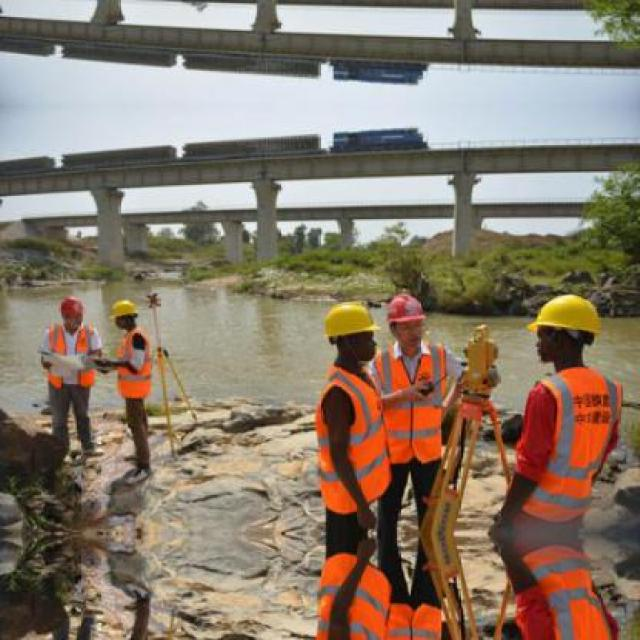helmet: (524, 288, 608, 371), (321, 300, 381, 362), (382, 291, 428, 349), (108, 299, 142, 332), (60, 294, 88, 334)
